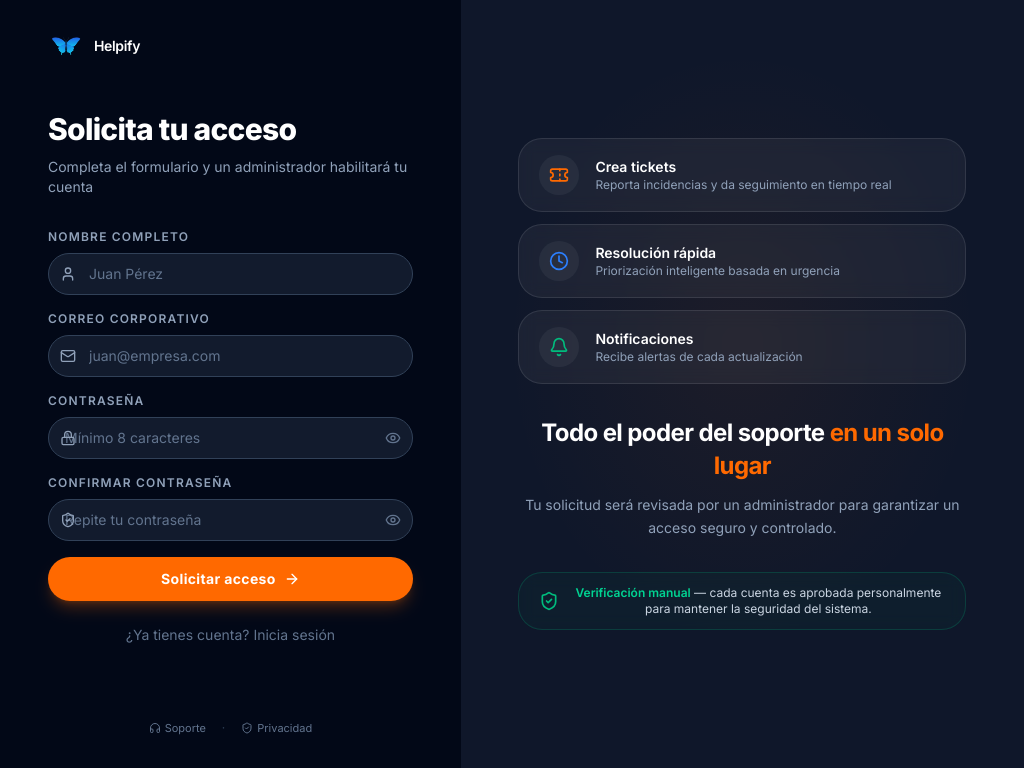
Scenario: RegisterPage › shows error message when registration fails
This screenshot has width=1024, height=768.
In the field with placeholder "Juan Pérez": (230, 274) x1=48 y1=252 x2=413 y2=294, type "Existing User"
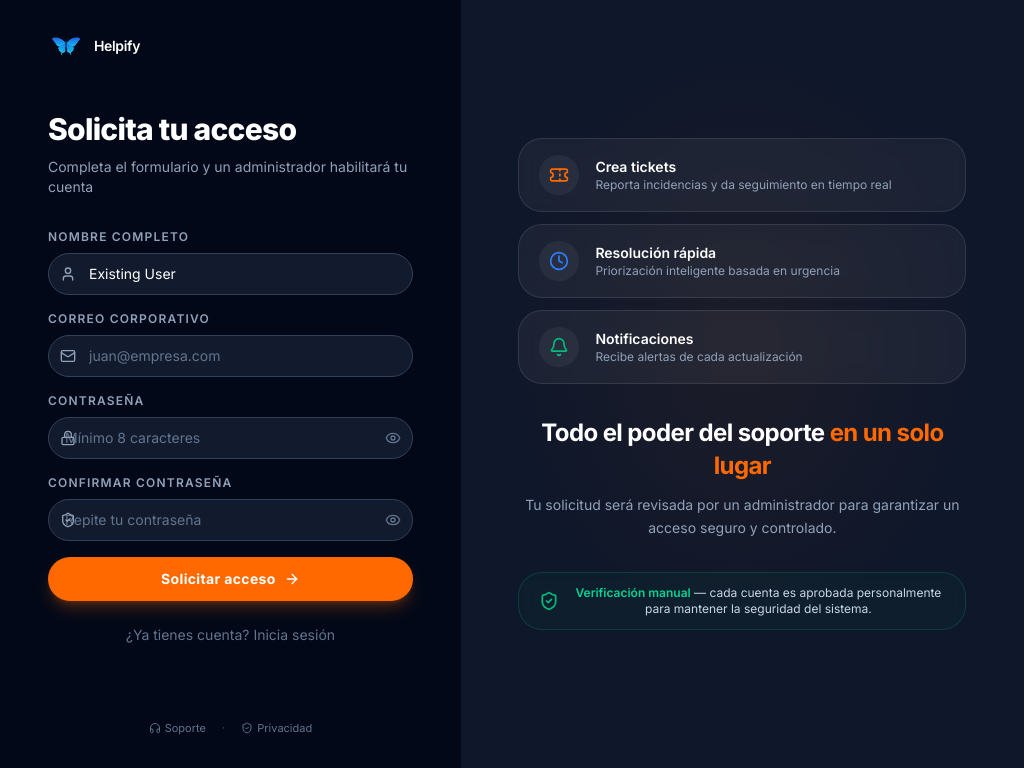
In the field with placeholder "juan@empresa.com": (230, 356) x1=48 y1=334 x2=413 y2=376, type "existing@example.com"
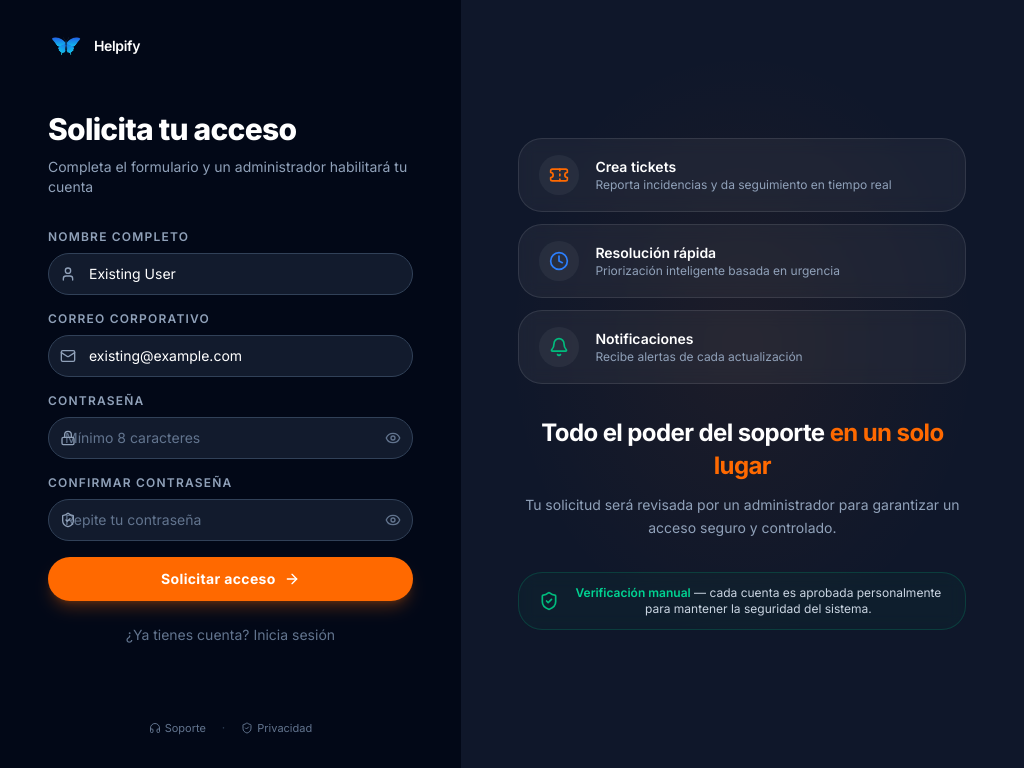
In the password field with placeholder "Mínimo 8 caracteres": (230, 438) x1=48 y1=416 x2=413 y2=458, type "password123"
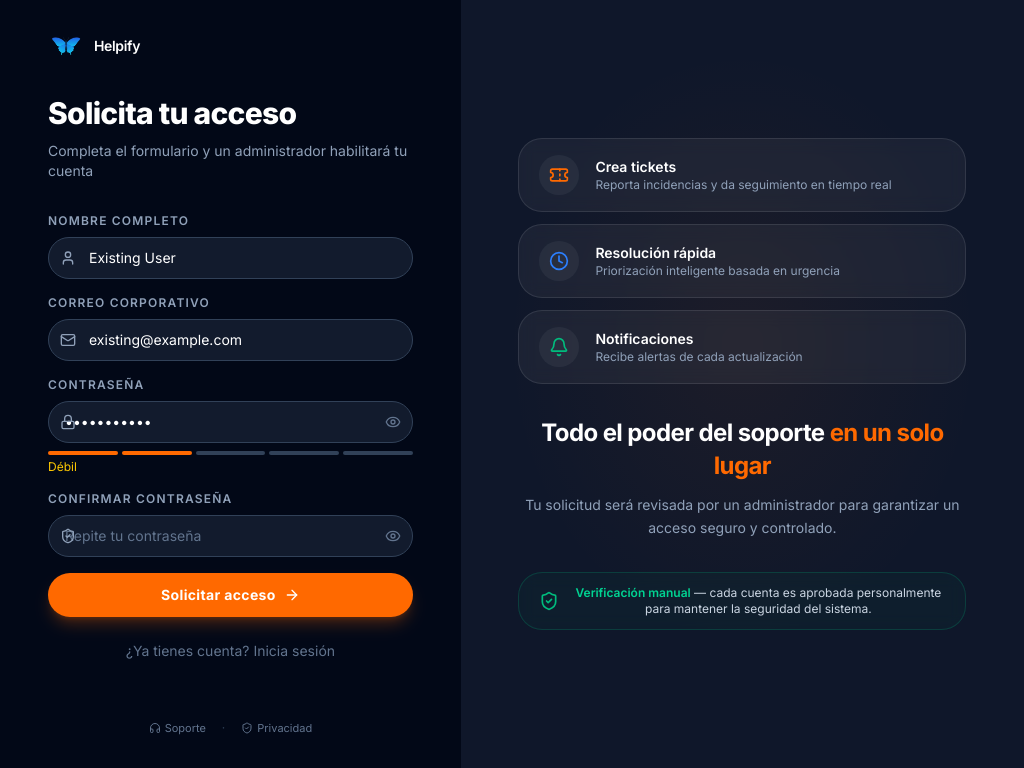
In the password field with placeholder "Repite tu contraseña": (230, 536) x1=48 y1=514 x2=413 y2=556, type "password123"
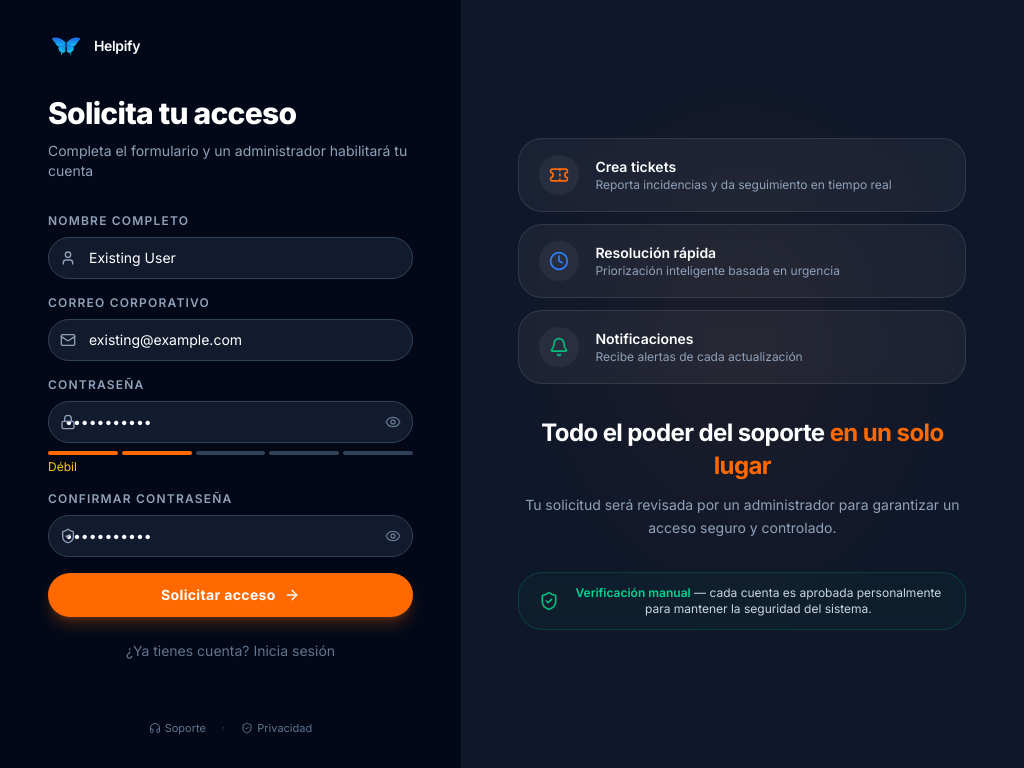
Click the button "Solicitar acceso": click(230, 594) x1=48 y1=572 x2=413 y2=616
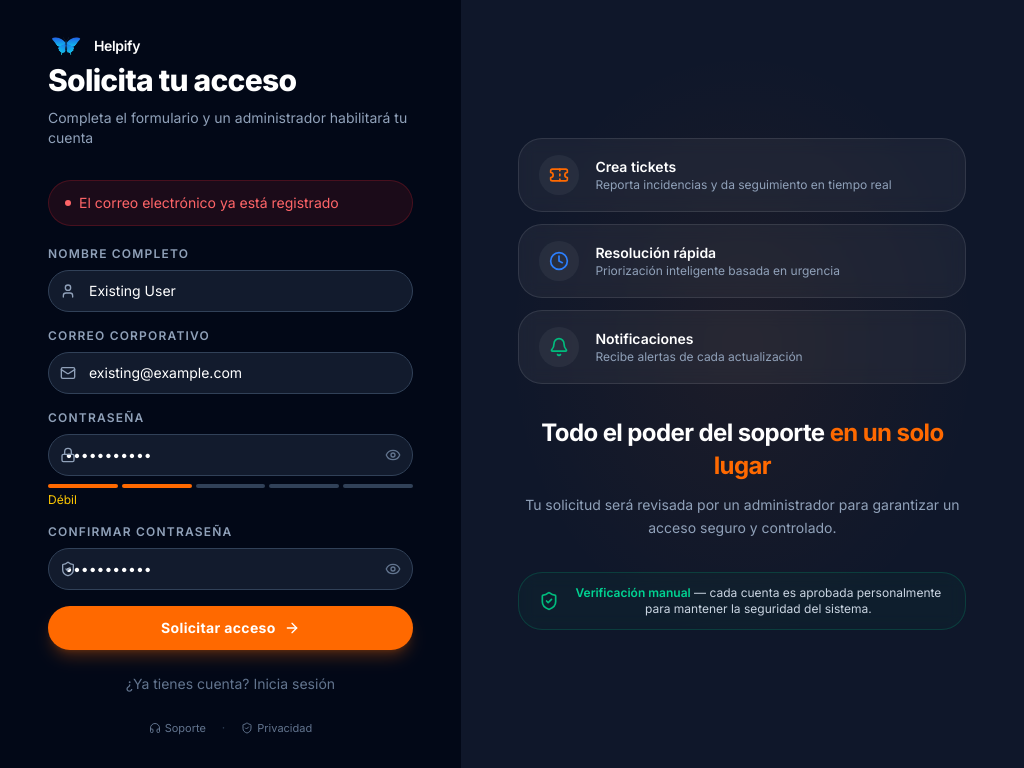
Expected: the text "El correo electrónico ya está registrado" is shown, x1=48 y1=180 x2=413 y2=226
